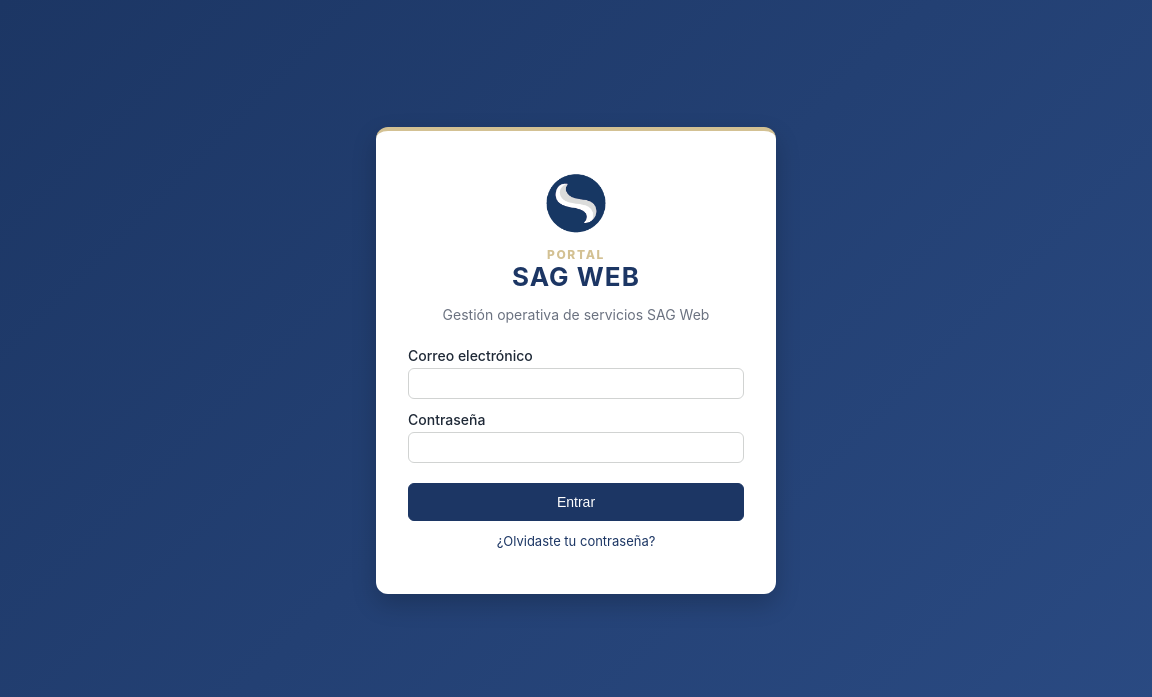
LoginPage seguro › solicita cambio obligatorio y valida mínimo 14
Step 1. Type "user@x.com" into the field labelled "Correo electrónico" → [576, 383], box [408,368,744,398]
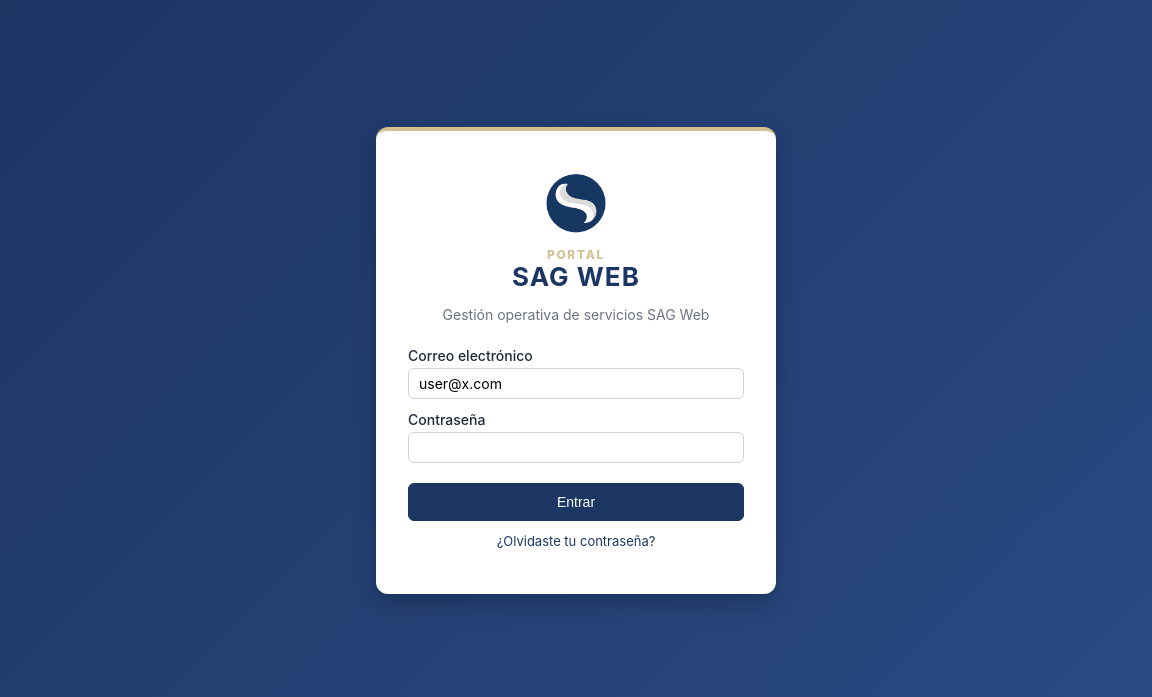
Step 2. Type "Temporal muy segura 2026" into the password field labelled "Contraseña" → [576, 447], box [408,432,744,462]
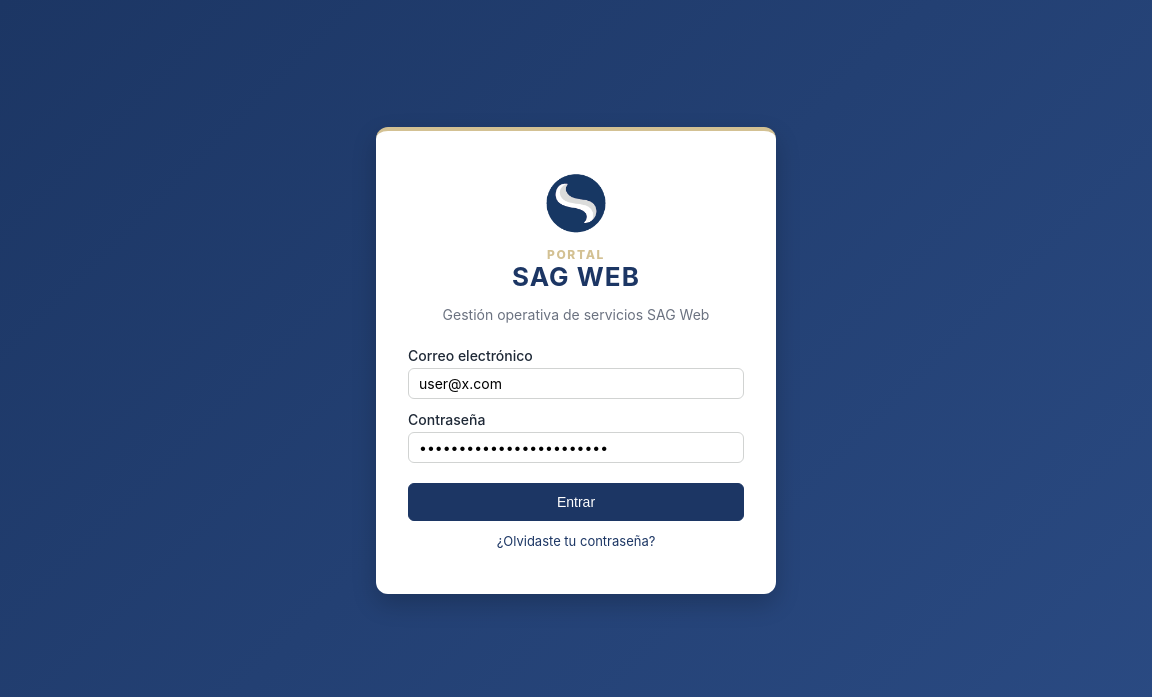
Step 3. Click the button "Entrar" → [576, 502], box [408,482,744,520]
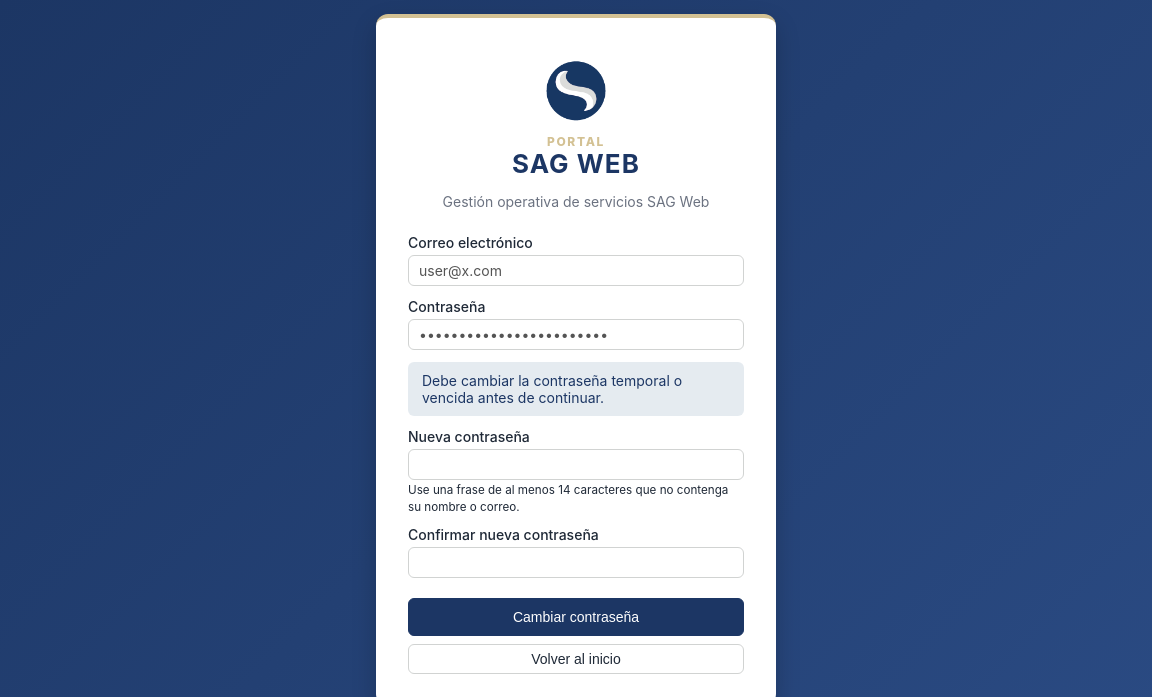
expect the text "Debe cambiar la contraseña temporal" is shown: met, box [422,372,682,406]
Step 4. Type "corta" into the password field labelled "Nueva contraseña" → [576, 464], box [408,449,744,480]
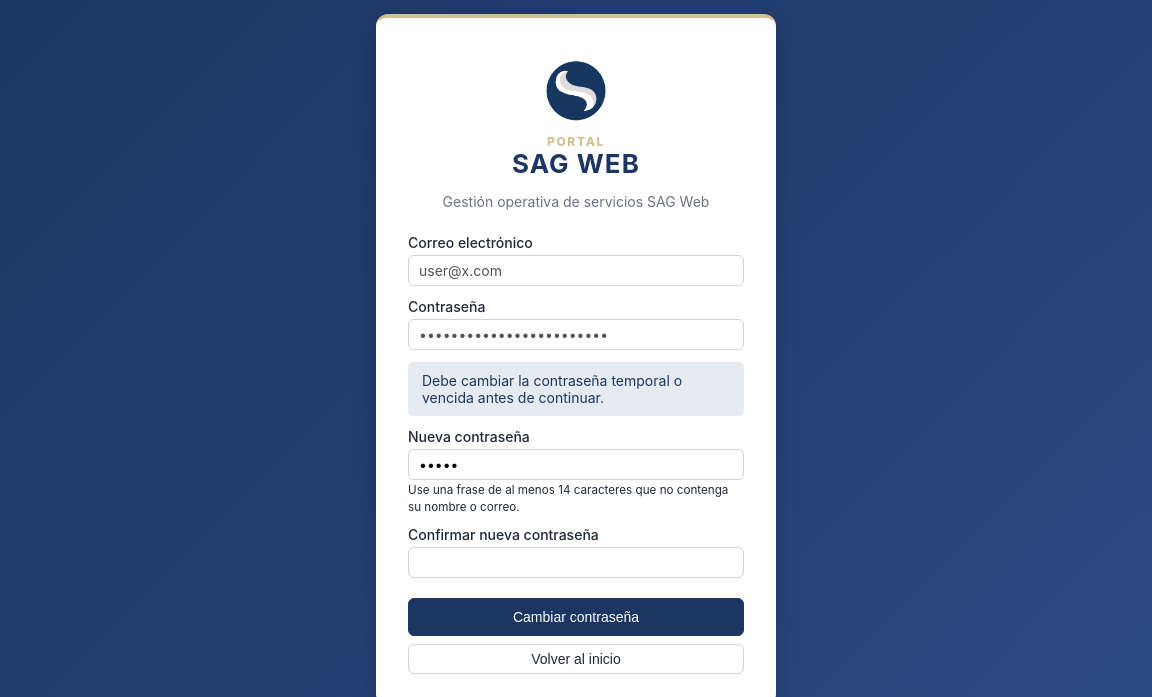
Step 5. Type "corta" into the password field labelled "Confirmar nueva contraseña" → [576, 562], box [408,547,744,578]
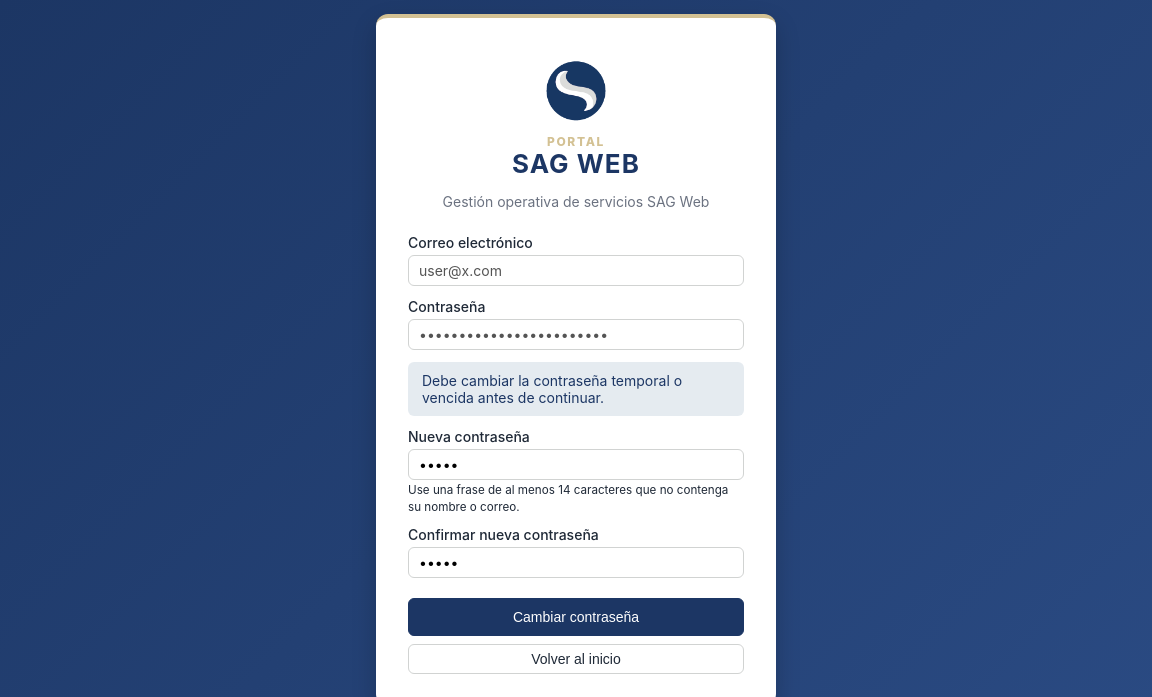
Step 6. Click the button "Cambiar contraseña" → [576, 617], box [408,598,744,636]
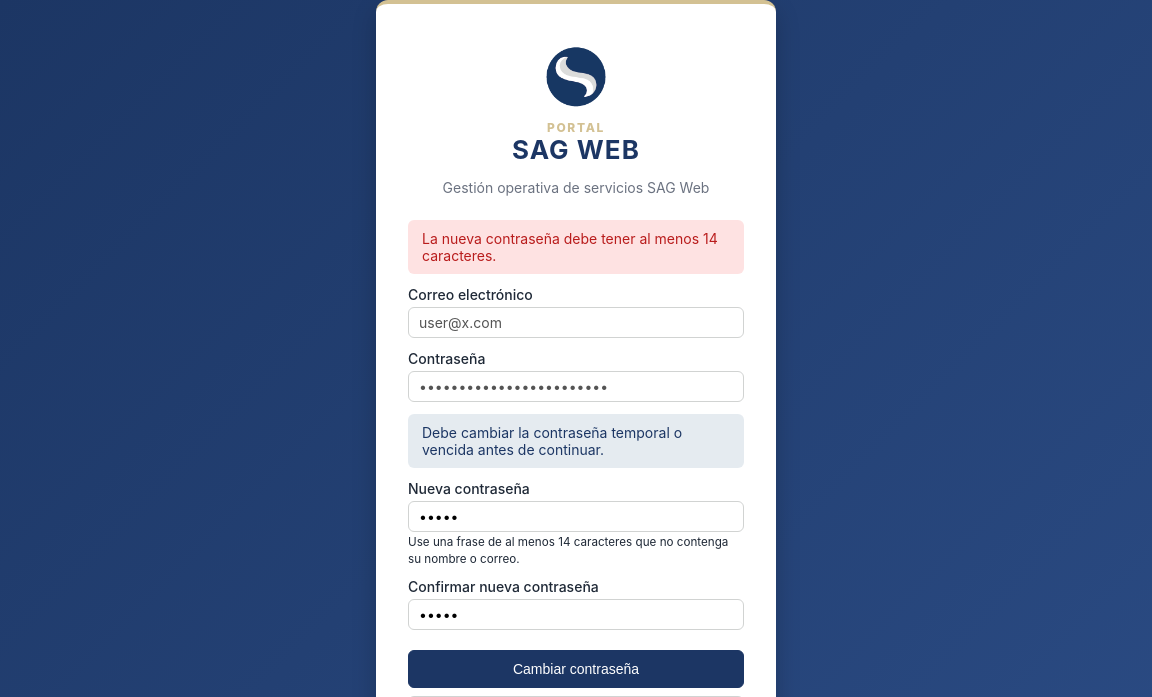
expect the text "La nueva contraseña debe tener al menos 14 caracteres." is shown: met, box [408,220,744,274]
